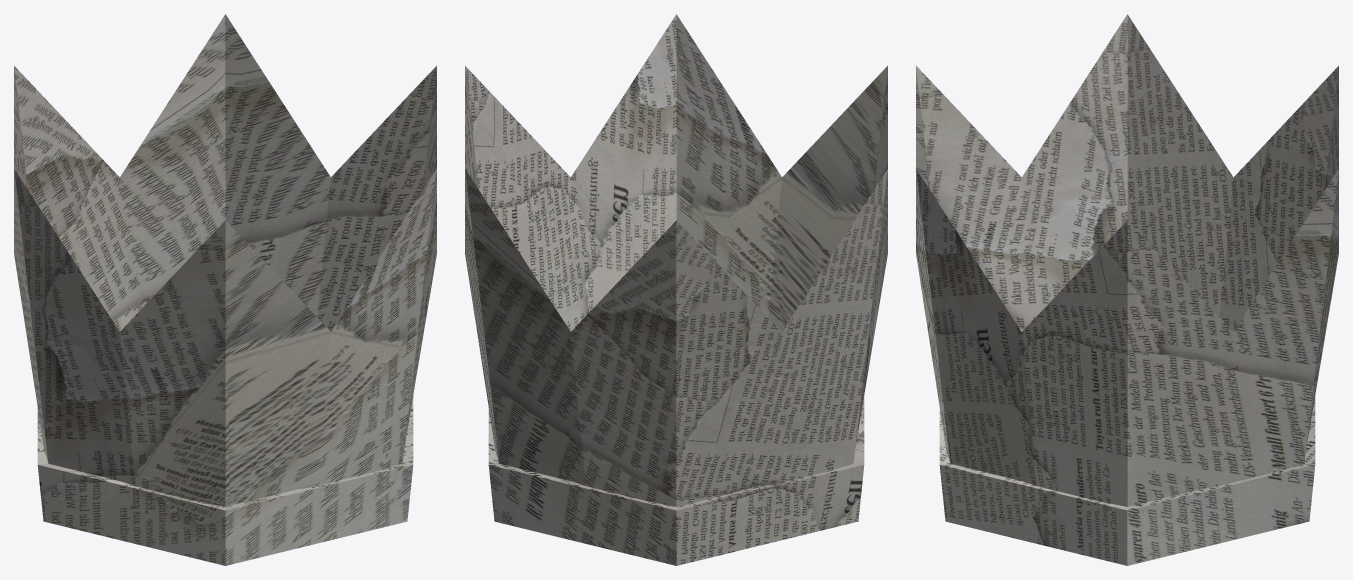
File: PaperCrown3.fbx
3 views of the same model, side by side, from view 1: azimuth 30°, elevation 25°; view 2: azimuth 150°, elevation 25°; view 3: azimuth 270°, elevation 25° (orthographic).
Visible parts, largest first — view 1: Torus; view 2: Torus; view 3: Torus.
Boxes of the visible parts, x1,y1,x2,y2 form: Torus: [14, 14, 436, 565]; Torus: [465, 14, 887, 565]; Torus: [916, 14, 1338, 565].
Bounding box in the file's own units: 184 × 150 × 160.
1 material, 1 textured.
